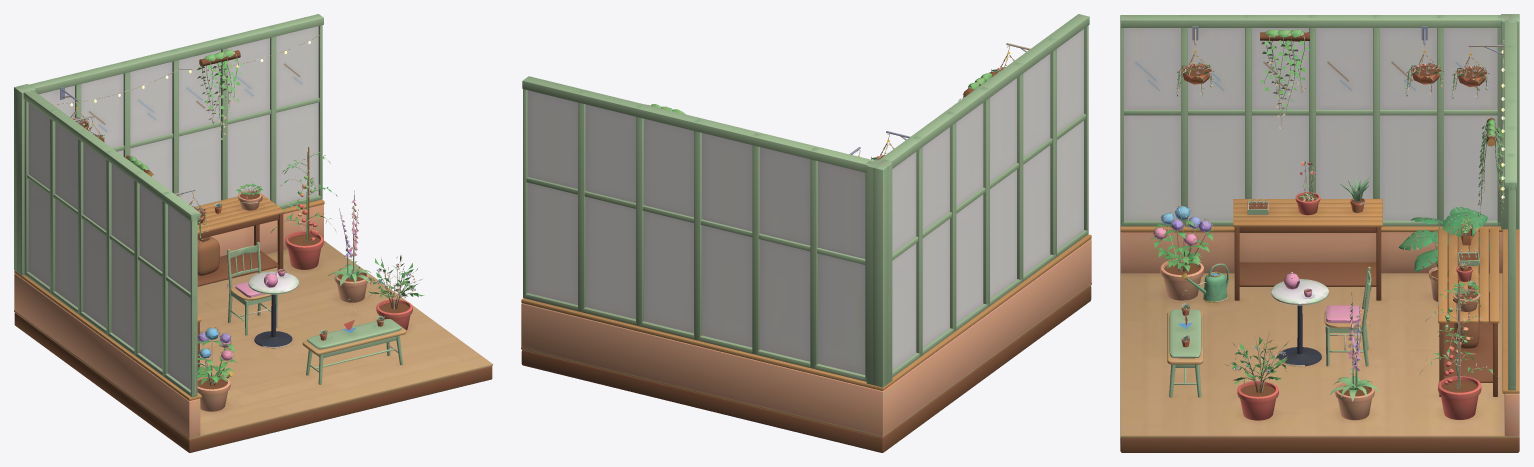
File: greenhouse-interior.glb
The picture shows the model from 3 angles, left to right: view 1: azimuth 30°, elevation 25°; view 2: azimuth 150°, elevation 25°; view 3: azimuth 270°, elevation 25°; orthographic projection. The views are drawn at different scales.
Visible parts, largest first — view 1: greenhouse-interior_body; view 2: greenhouse-interior_body; view 3: greenhouse-interior_body.
Boxes of the visible parts, box(x1,y1,x2,y2) form: greenhouse-interior_body: box(14, 14, 492, 452); greenhouse-interior_body: box(521, 14, 1091, 452); greenhouse-interior_body: box(1120, 14, 1519, 452).
Bounding box in the file's own units: 4 × 3 × 4.
Materials: 3 (1 with a texture image).
